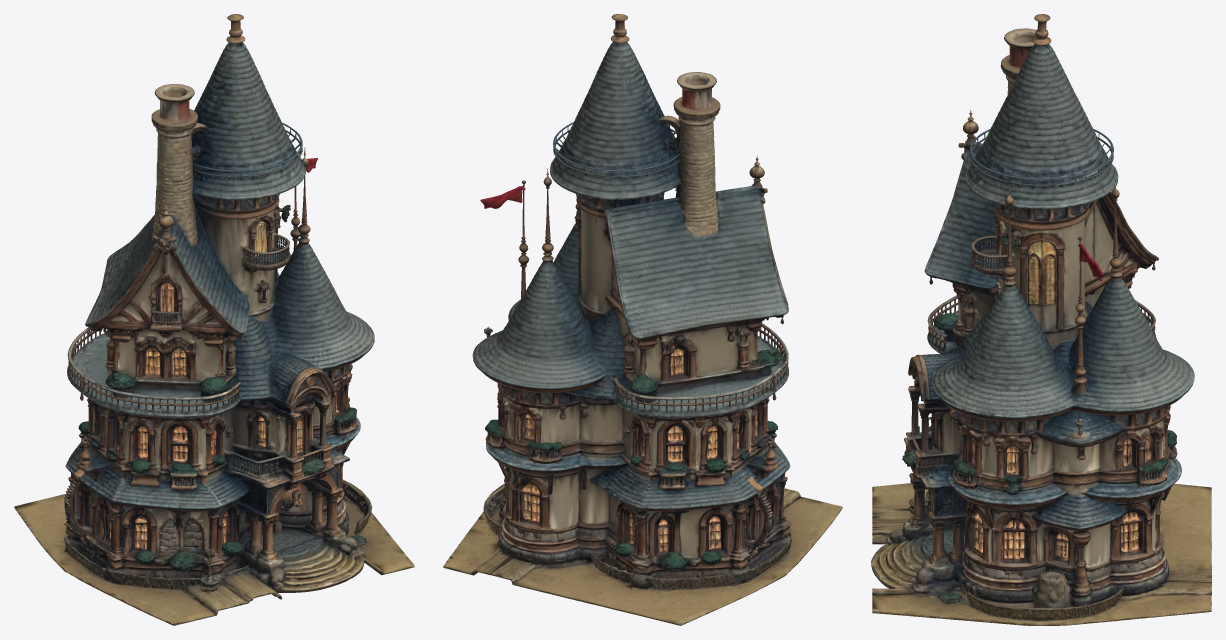
The model's file is castle.glb.
The picture shows the model from 3 angles, left to right: view 1: azimuth 30°, elevation 25°; view 2: azimuth 150°, elevation 25°; view 3: azimuth 270°, elevation 25°; orthographic projection. The views are drawn at different scales.
Parts seen in each view (by area): view 1: tripo_node_16a79378-734f-42ea-89bc-52442ad6c80f; view 2: tripo_node_16a79378-734f-42ea-89bc-52442ad6c80f; view 3: tripo_node_16a79378-734f-42ea-89bc-52442ad6c80f.
Part boxes in pixels (left/top/right/bottom): tripo_node_16a79378-734f-42ea-89bc-52442ad6c80f: left=14, top=14, right=414, bottom=625; tripo_node_16a79378-734f-42ea-89bc-52442ad6c80f: left=443, top=14, right=842, bottom=625; tripo_node_16a79378-734f-42ea-89bc-52442ad6c80f: left=871, top=14, right=1211, bottom=625.
Bounding box in the file's own units: 0.5805 × 0.9791 × 0.5544.
1 material, 1 textured.
